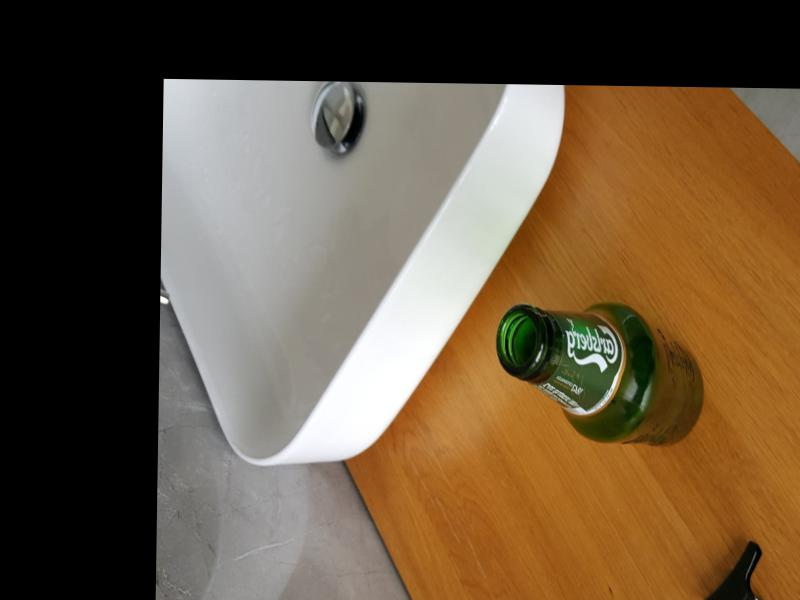Beer: (496, 303, 706, 444)
